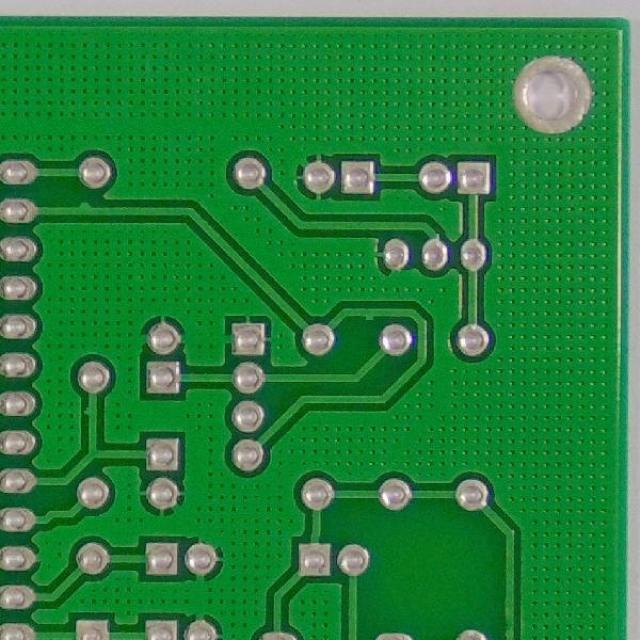spur: (68, 194, 99, 220), (81, 398, 105, 424), (359, 303, 383, 325)
